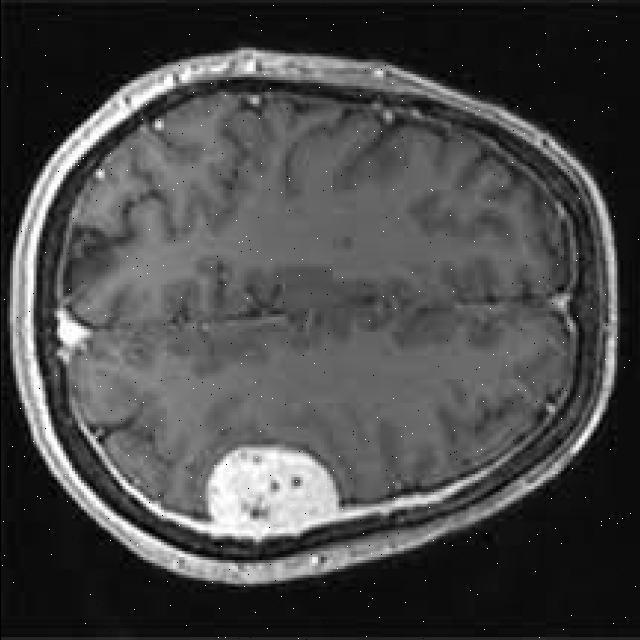Meningioma: (208, 448, 339, 539)
